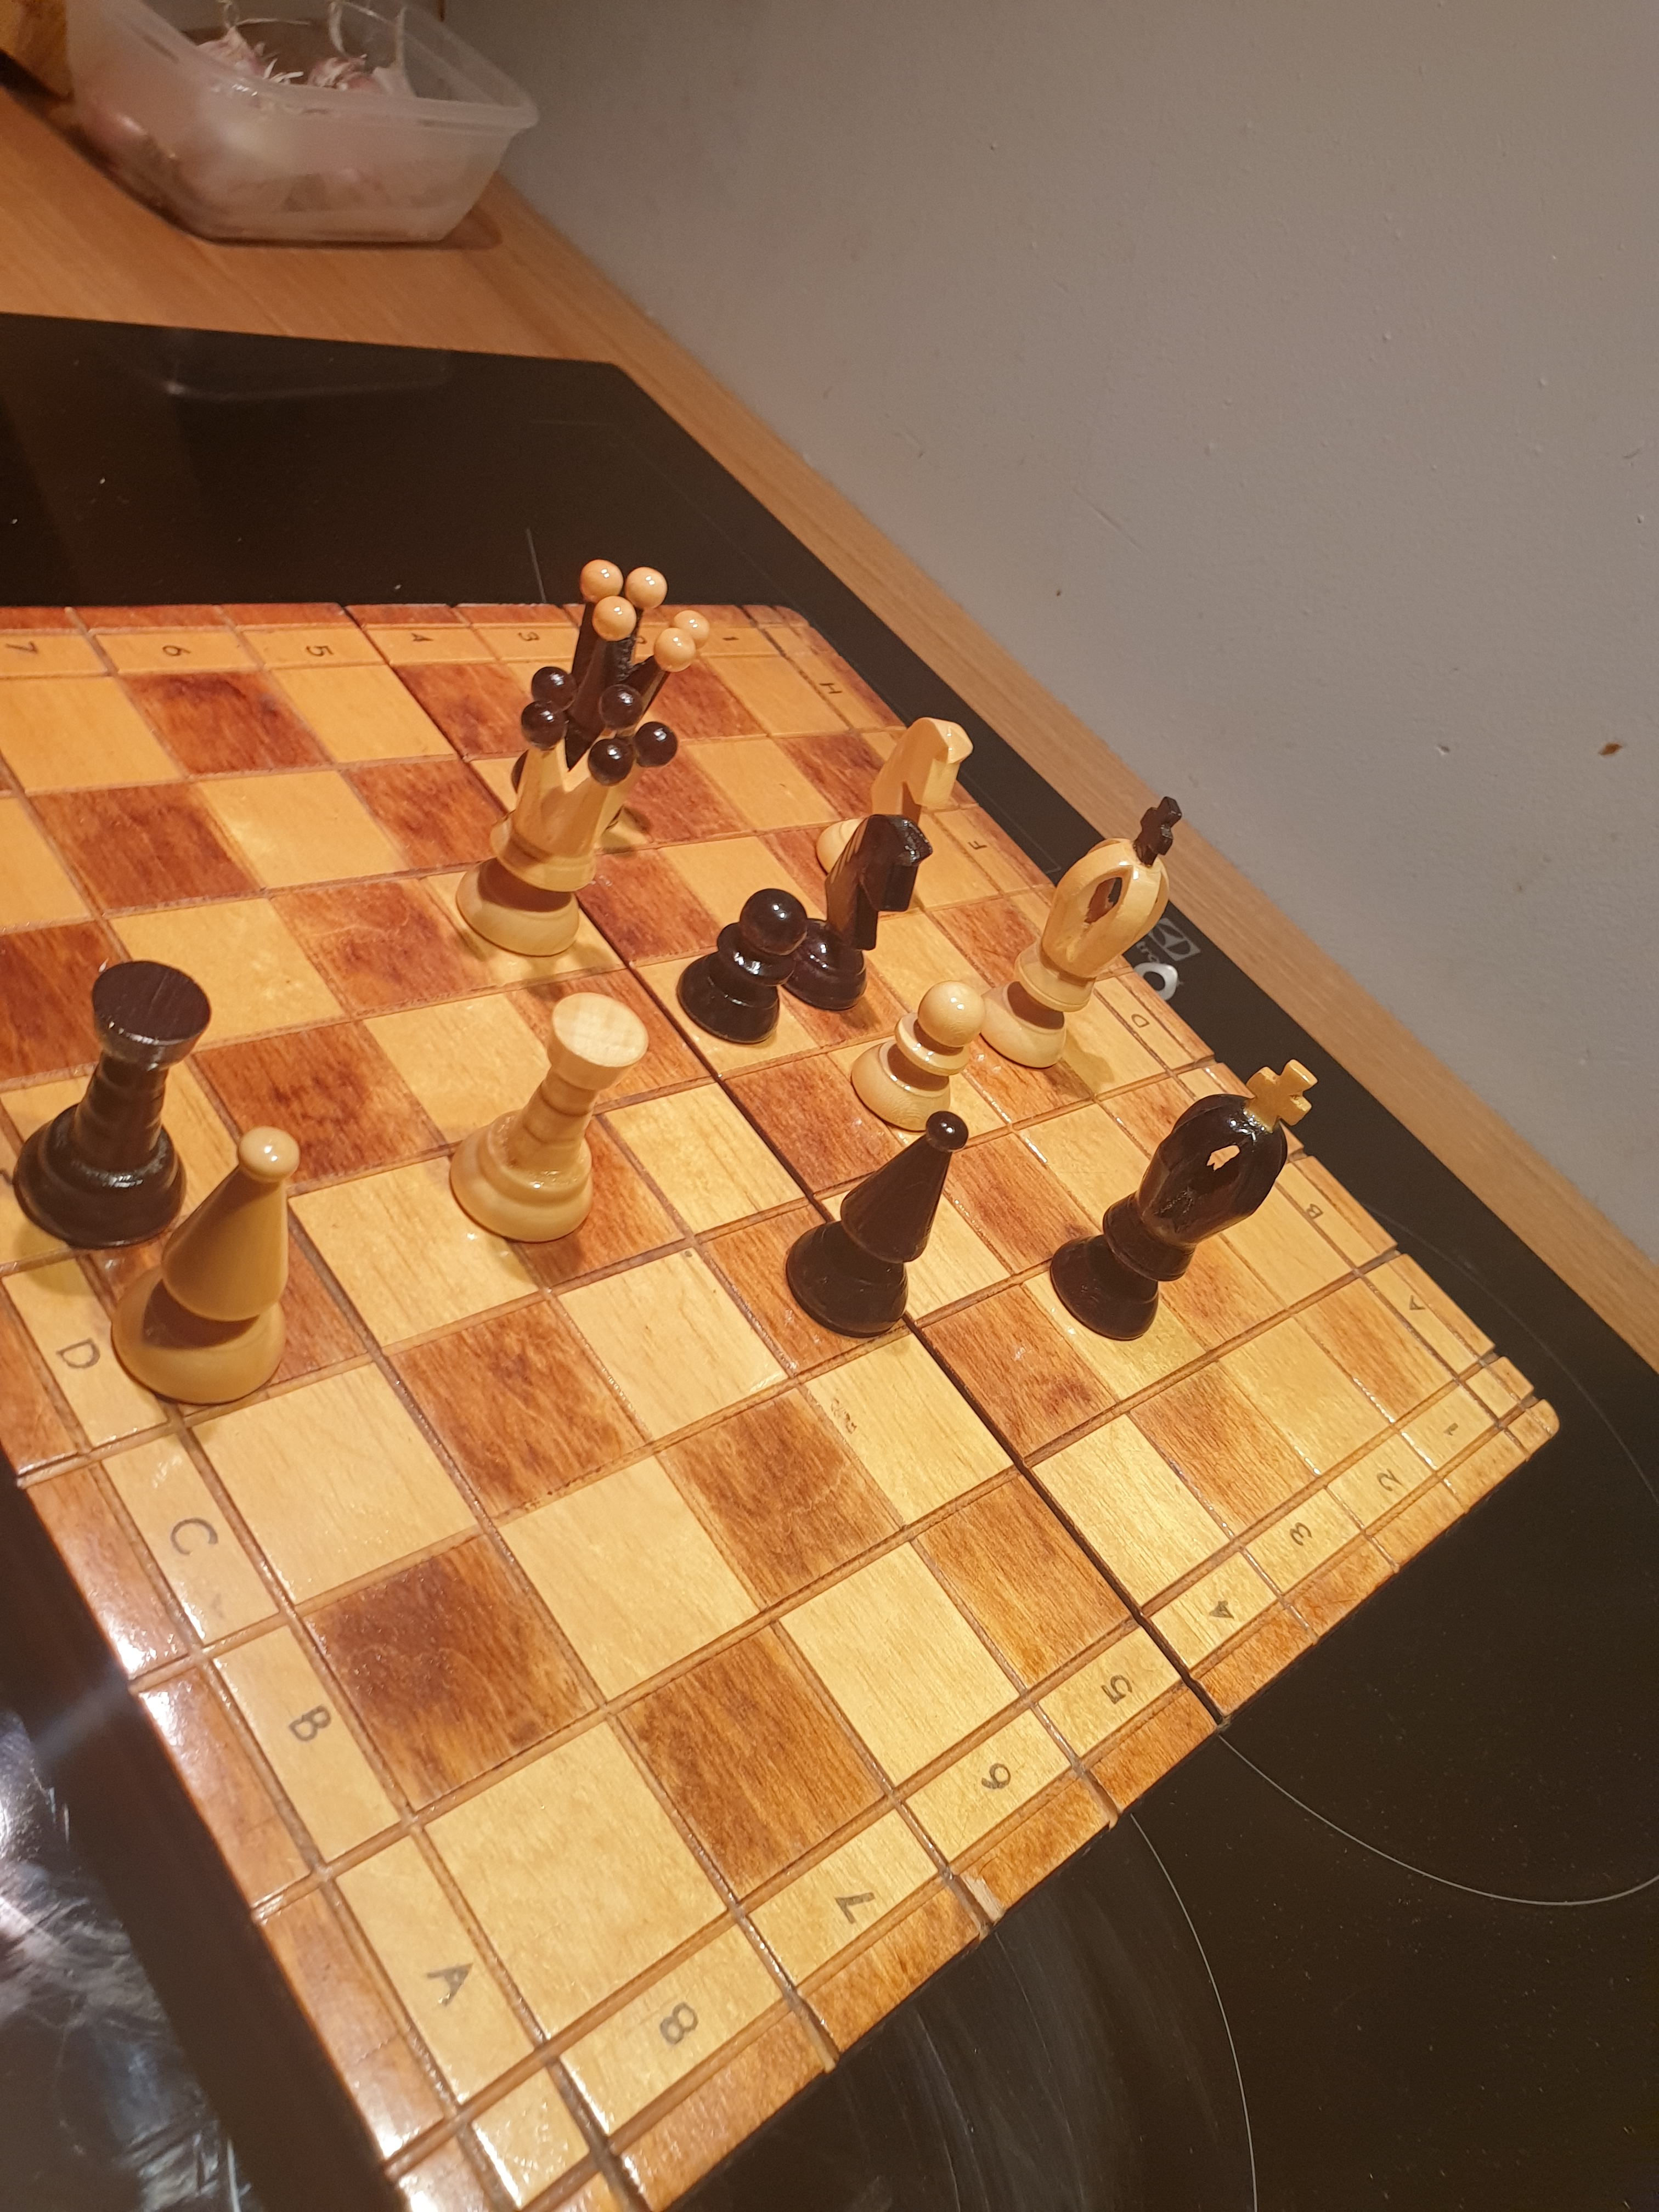bbishop: (774, 1104, 986, 1355)
bking: (1039, 1049, 1331, 1360)
bknight: (775, 808, 931, 1024)
bpawn: (667, 873, 812, 1059)
bqueen: (504, 549, 720, 829)
brook: (9, 954, 223, 1258)
wbishop: (103, 1111, 310, 1430)
wking: (964, 787, 1204, 1085)
wknight: (821, 707, 978, 890)
wpawn: (838, 958, 985, 1151)
wqueen: (448, 657, 685, 965)
wrook: (441, 984, 659, 1256)
